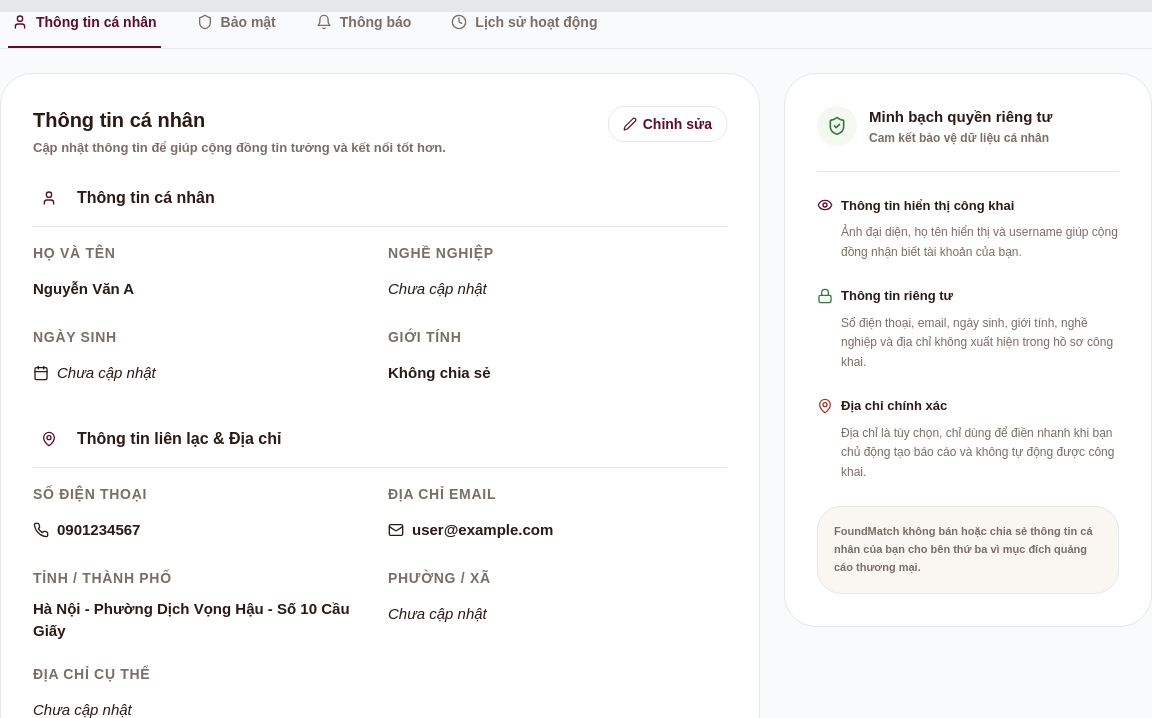
Test case: Profile Tabs and Modular Components › renders ProfileInfoTab by default (defaultValue='info')
Expected: the heading "Minh bạch quyền riêng tư" is shown, [869,106,1052,128]
Expected: the text "Nguyễn Văn A" is shown, [33,278,134,300]
// Chuyển sang chế độ chỉnh sửa sẽ xuất hiện input
Click the button "Chỉnh sửa" at (667, 124), box [608,106,727,142]
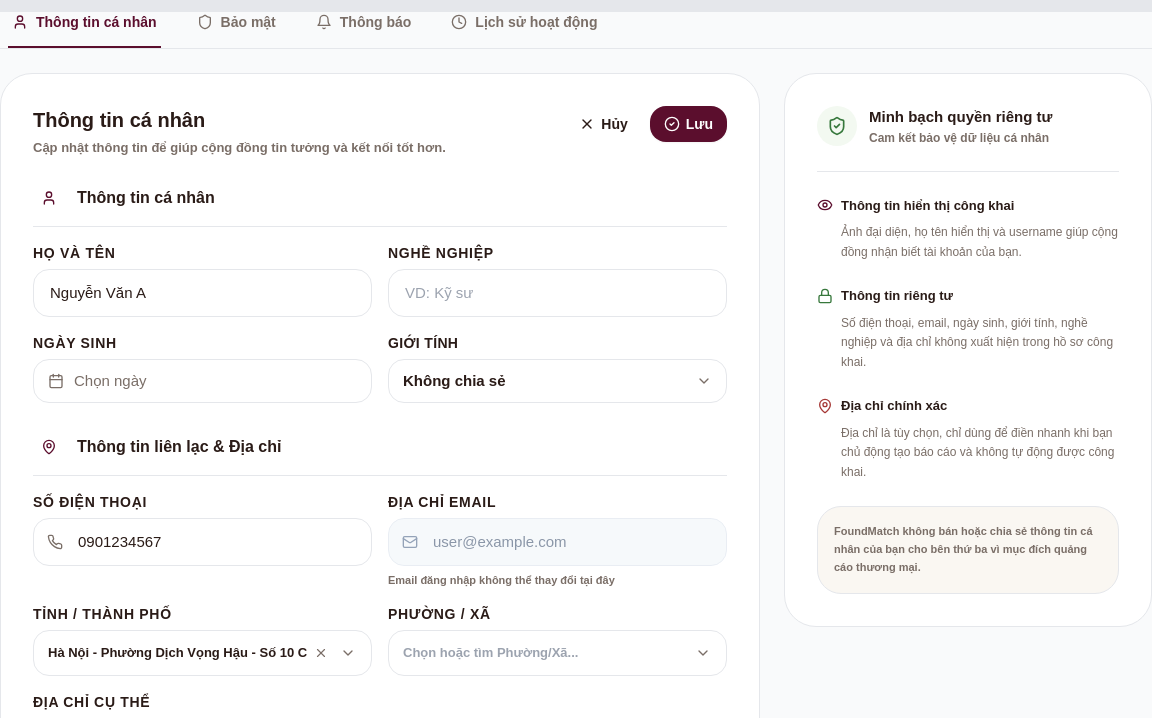
Now the field showing "Nguyễn Văn A" is shown, box [33,268,372,316]
